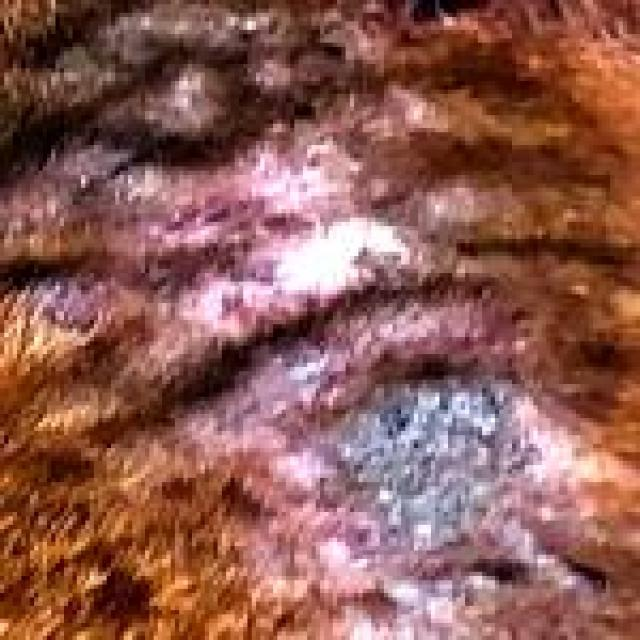fungal infection: (116, 97, 602, 619), (7, 156, 105, 220), (39, 264, 112, 340)
